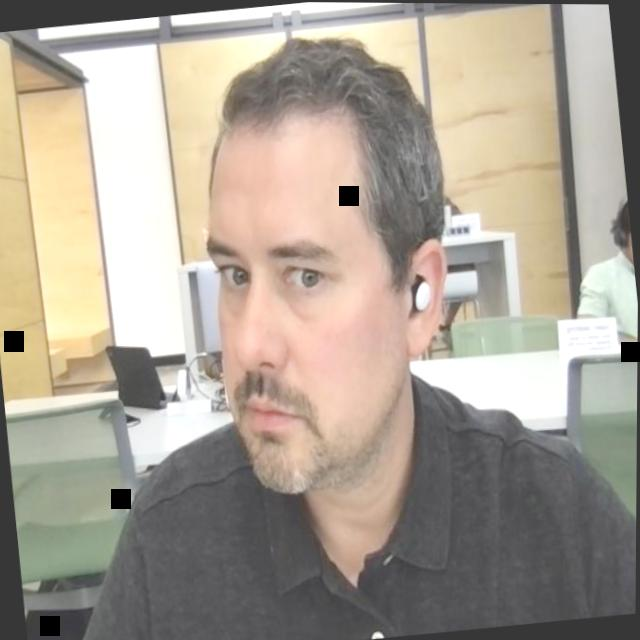NO-Mask: (185, 24, 483, 507), (608, 186, 635, 278)
